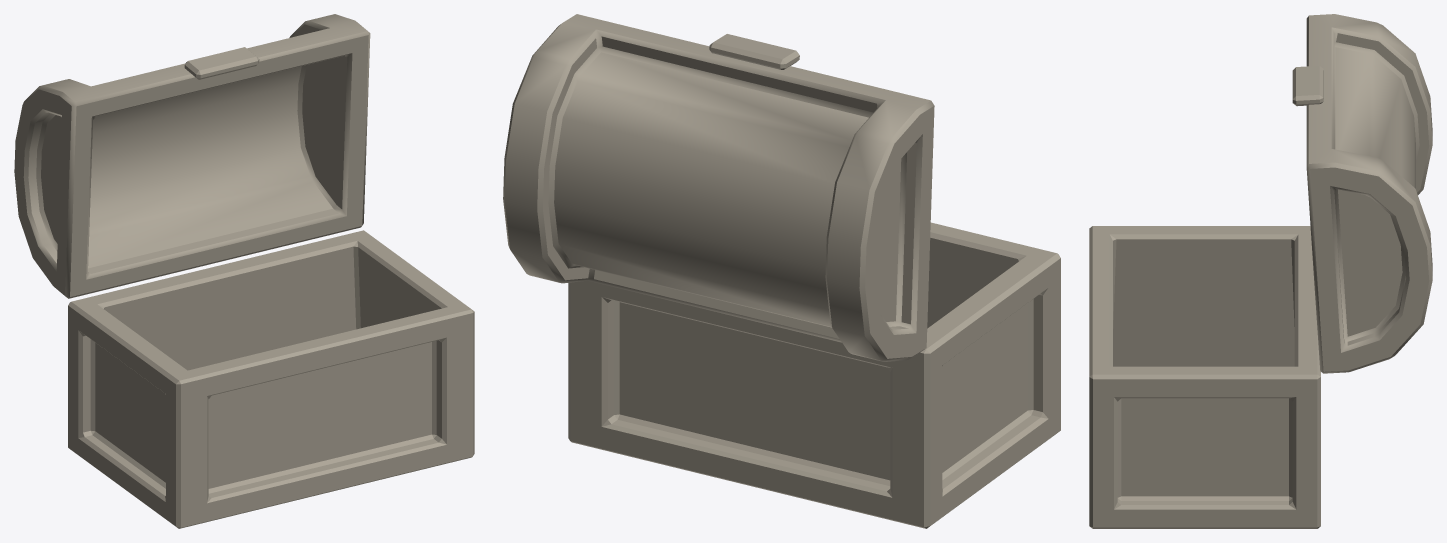
The model's file is crate.glb.
The picture shows the model from 3 angles, left to right: view 1: azimuth 30°, elevation 25°; view 2: azimuth 150°, elevation 25°; view 3: azimuth 270°, elevation 25°; orthographic projection. The views are drawn at different scales.
Visible parts, largest first — view 1: crate; view 2: crate; view 3: crate.
Boxes of the visible parts, x1,y1,x2,y2 form: crate: [14, 14, 474, 528]; crate: [503, 14, 1060, 528]; crate: [1089, 14, 1432, 528].
Bounding box in the file's own units: 0.6955 × 0.8 × 0.6653.
